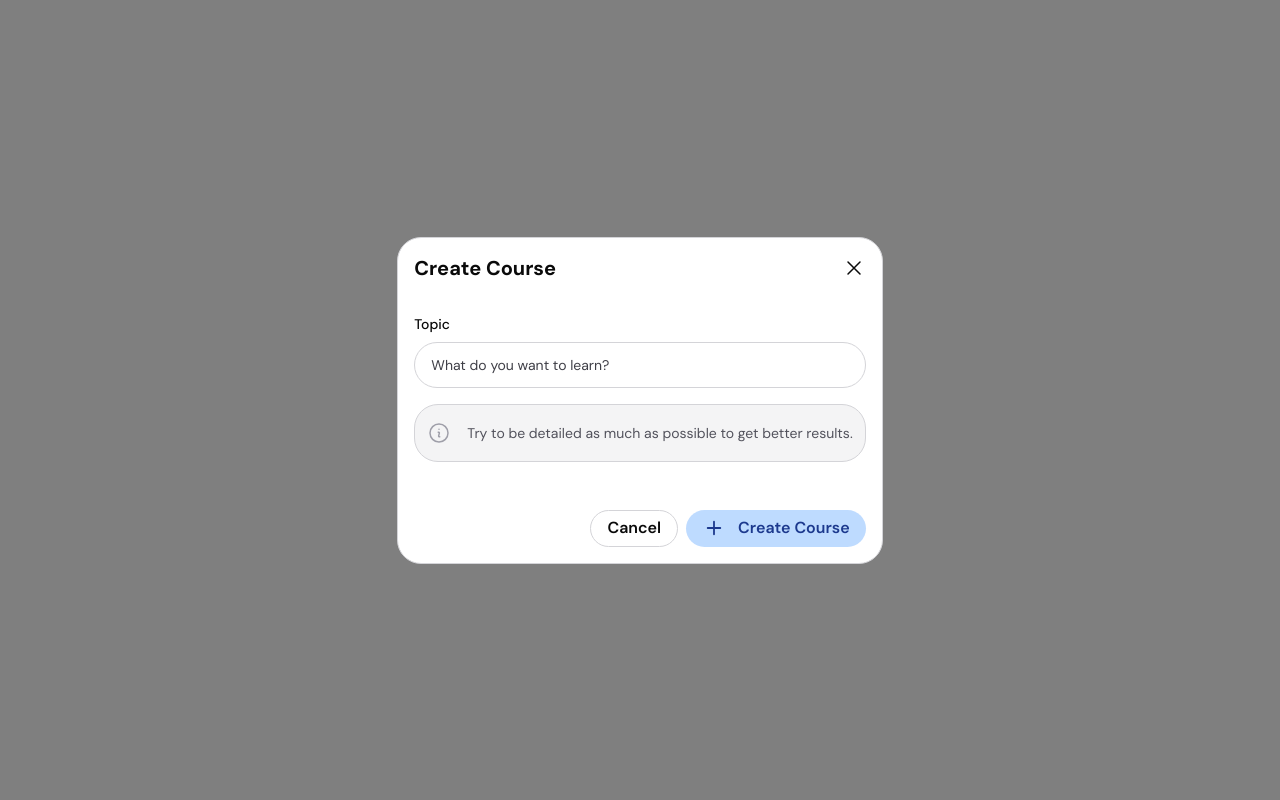
Test: CreateCourseForm › check if form submits
Type "test" into the field with placeholder "What do you want to learn?" at (640, 364), box [414, 342, 866, 388]
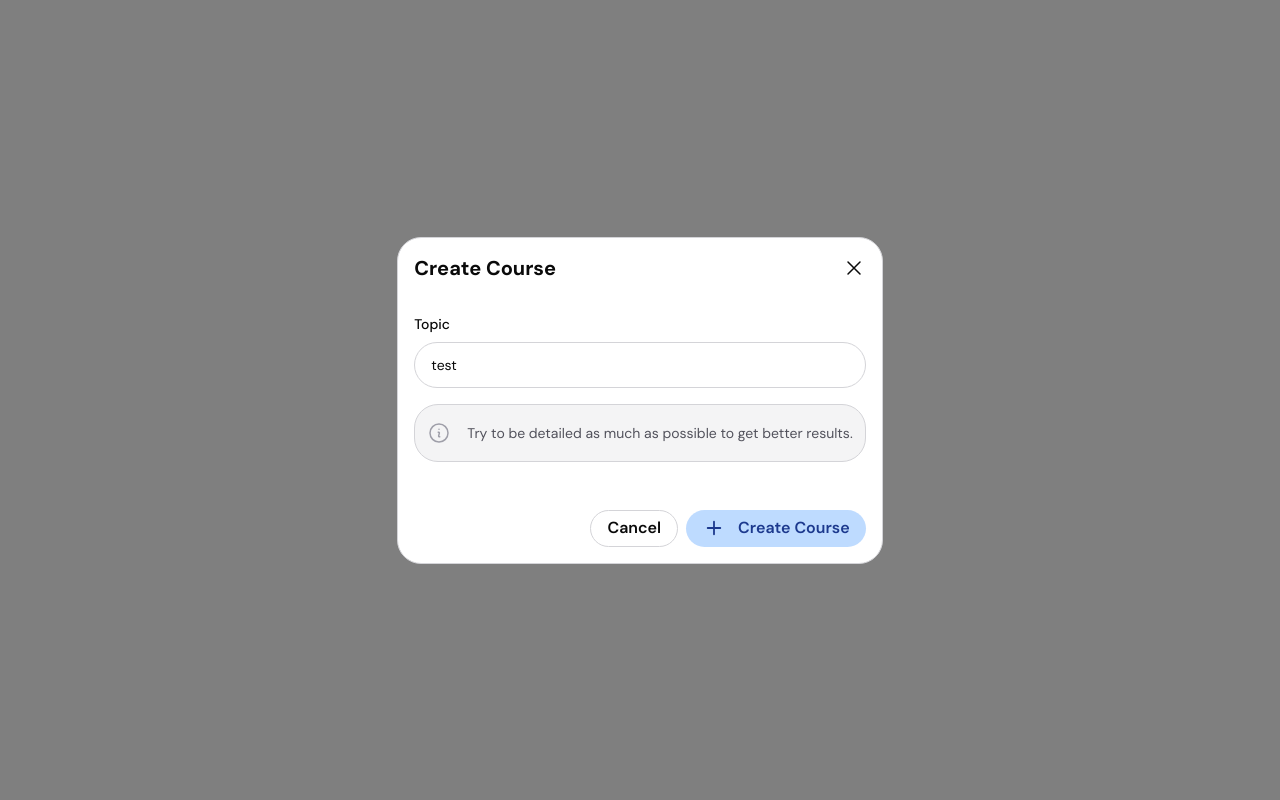
Click the button "Create Course" at (776, 528), box [686, 510, 866, 546]
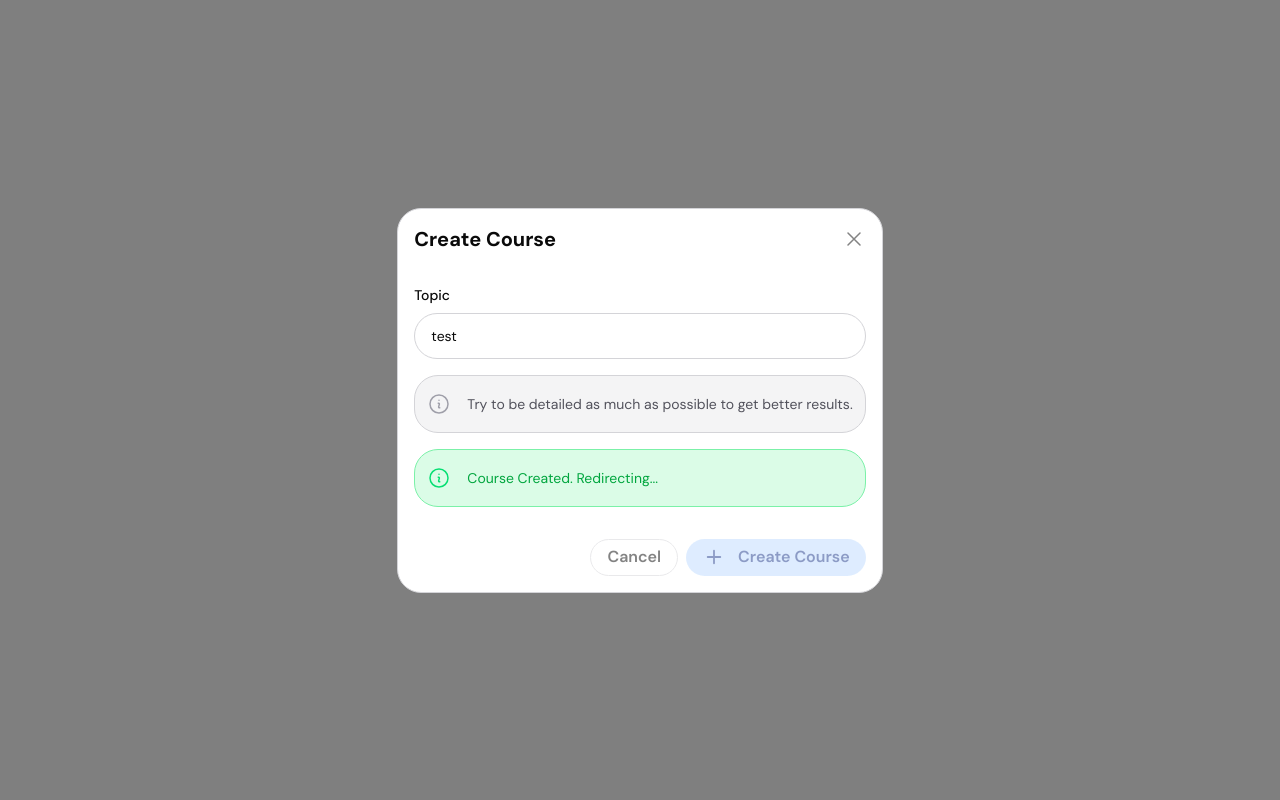
Now the text "Course Created. Redirecting..." is shown, box [467, 468, 658, 488]
